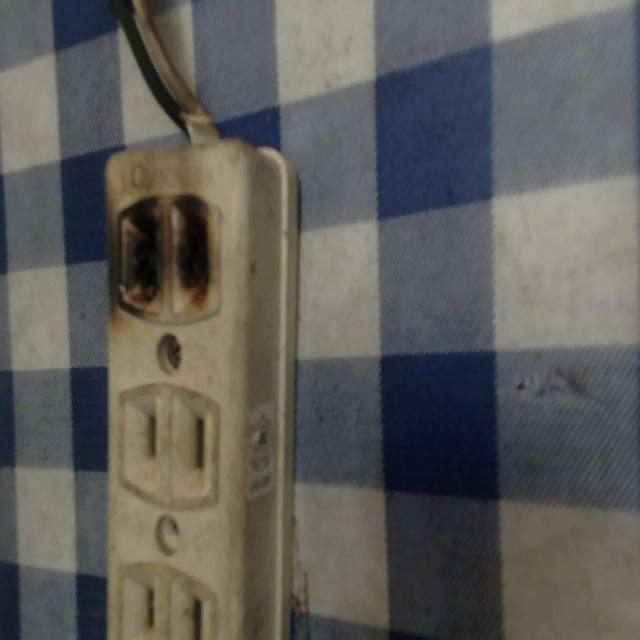-: (99, 184, 233, 337)
